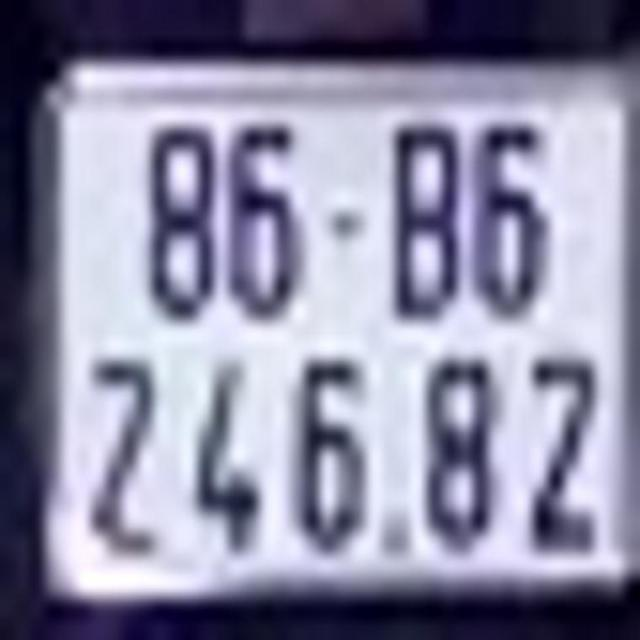2: (85, 348, 160, 562), (526, 346, 600, 561)
4: (192, 357, 260, 566)
6: (466, 119, 545, 320), (223, 112, 300, 318), (295, 348, 369, 559)
8: (144, 110, 219, 324), (423, 346, 497, 553)
B: (393, 108, 458, 322)
